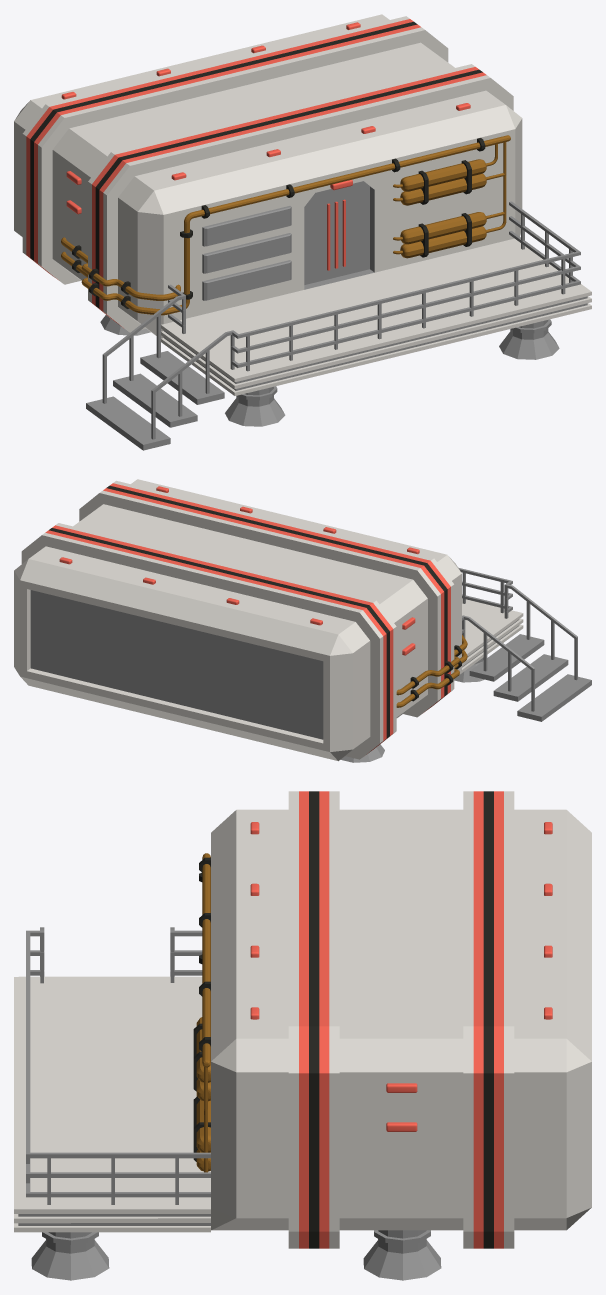
The model's file is 02 Space_Chamber.FBX.
3 views of the same model, one above another, from view 1: azimuth 30°, elevation 25°; view 2: azimuth 150°, elevation 25°; view 3: azimuth 270°, elevation 25° (orthographic). The views are drawn at different scales.
Parts seen in each view (by area): view 1: Box043; view 2: Box043; view 3: Box043.
Part boxes in pixels (bbox=[...]): Box043: bbox=[14, 14, 591, 450]; Box043: bbox=[14, 479, 591, 762]; Box043: bbox=[14, 791, 591, 1280].
Size of the model in its own units: 8493 by 3459 by 6827.
